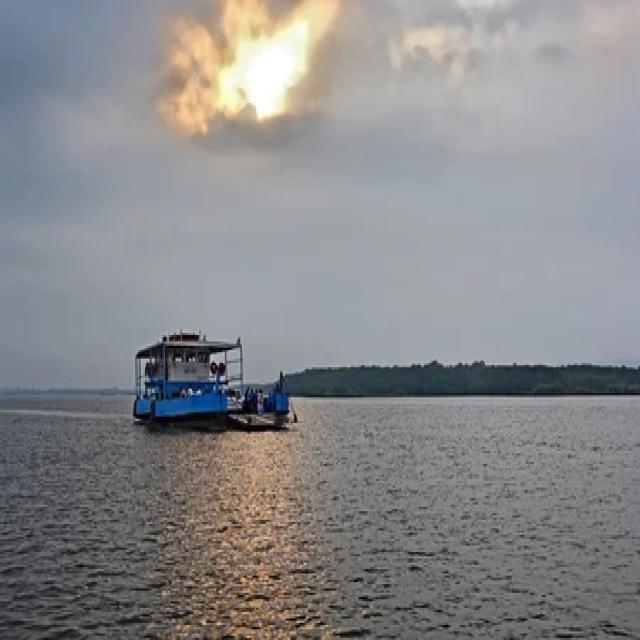fishing boat: (118, 309, 296, 434)
